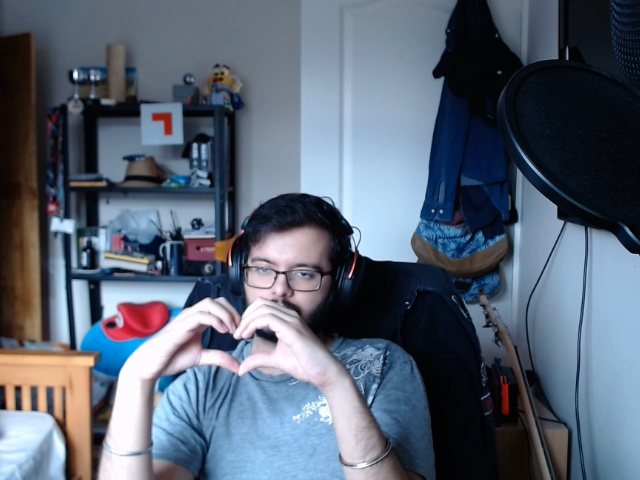Heart: (146, 294, 328, 377)
